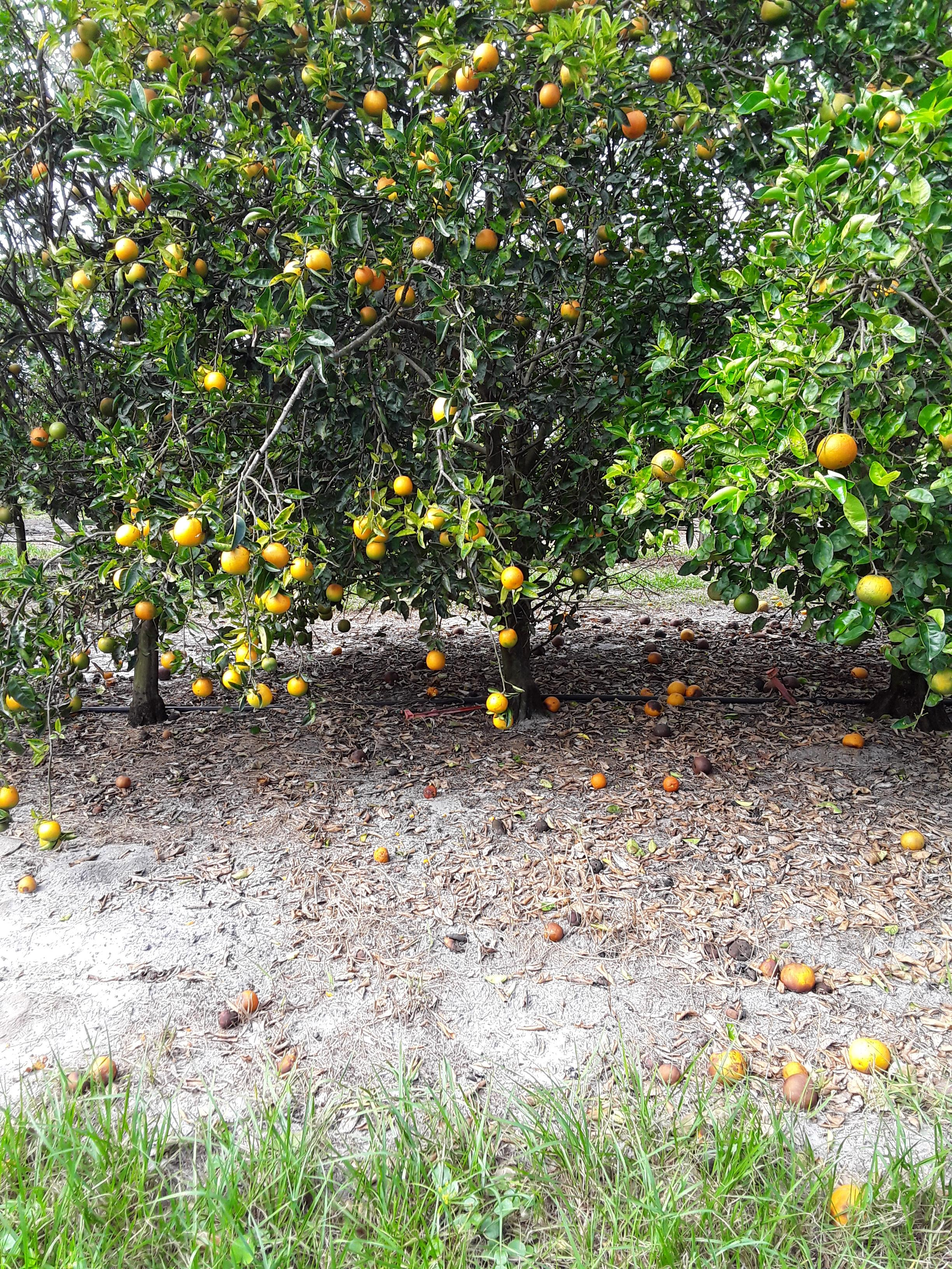fruit_on_ground: (817, 428, 859, 479), (857, 572, 894, 620), (647, 446, 691, 485), (817, 91, 859, 127), (415, 31, 452, 64), (559, 60, 595, 90), (427, 190, 462, 220), (887, 72, 920, 103), (175, 510, 205, 544), (812, 273, 847, 302), (471, 42, 502, 74), (759, 0, 797, 26), (870, 276, 904, 303), (77, 18, 107, 47), (624, 107, 650, 140), (187, 45, 215, 75), (847, 138, 877, 166), (222, 547, 249, 578), (245, 683, 276, 710), (252, 580, 278, 612), (320, 5, 349, 33), (733, 587, 760, 617), (473, 225, 500, 255), (304, 246, 334, 273), (649, 52, 673, 85), (114, 521, 142, 549), (431, 395, 458, 424), (135, 514, 161, 544), (429, 176, 464, 198), (524, 24, 556, 48), (71, 267, 100, 293), (536, 82, 566, 107), (203, 364, 227, 395), (423, 506, 450, 533), (660, 383, 688, 409), (265, 543, 290, 572), (237, 6, 262, 35), (350, 512, 376, 539), (29, 157, 56, 183), (286, 33, 311, 61), (124, 187, 152, 212), (879, 108, 903, 137), (162, 243, 191, 267), (159, 126, 189, 149), (380, 255, 406, 281), (628, 16, 656, 40), (190, 674, 216, 699), (424, 65, 449, 91), (176, 8, 203, 32), (394, 281, 418, 308), (366, 94, 389, 122), (300, 63, 325, 88), (114, 237, 140, 261), (146, 457, 173, 480), (500, 565, 523, 592), (238, 159, 265, 182), (413, 234, 436, 261), (184, 257, 211, 280), (128, 494, 154, 517), (45, 417, 67, 444), (214, 1, 236, 28), (697, 134, 719, 161), (611, 364, 633, 391), (96, 394, 120, 418), (28, 421, 49, 448), (282, 121, 306, 144), (102, 182, 131, 201), (392, 473, 414, 498), (455, 65, 476, 91), (4, 692, 32, 711), (239, 641, 260, 666), (353, 262, 374, 287), (166, 264, 193, 283), (26, 335, 53, 354), (865, 76, 887, 99), (124, 261, 147, 283), (367, 267, 389, 290), (353, 2, 374, 26), (548, 185, 572, 206), (415, 154, 435, 179), (30, 95, 56, 114), (935, 426, 952, 455), (424, 113, 451, 131), (294, 558, 316, 580), (648, 128, 670, 150), (270, 591, 291, 614), (131, 598, 152, 621), (219, 666, 240, 689), (287, 675, 310, 696), (681, 115, 702, 138), (512, 309, 533, 332), (367, 540, 387, 564), (74, 40, 92, 66), (527, 0, 560, 14), (263, 76, 286, 96), (561, 296, 581, 319), (470, 519, 489, 543), (325, 87, 344, 111), (198, 159, 222, 178), (118, 313, 139, 334), (67, 186, 89, 206), (328, 579, 347, 602), (376, 173, 395, 196), (143, 86, 161, 110), (360, 304, 378, 328), (439, 529, 460, 549), (41, 247, 62, 267), (571, 565, 590, 587), (148, 53, 167, 75), (195, 362, 217, 381), (0, 502, 18, 525), (159, 649, 177, 672), (264, 159, 284, 179), (595, 224, 616, 243), (228, 27, 247, 48), (99, 635, 117, 657), (543, 218, 565, 236), (186, 493, 203, 516), (161, 406, 180, 426), (72, 650, 90, 671), (670, 112, 688, 133), (614, 24, 633, 43), (550, 0, 580, 12), (517, 198, 540, 213), (248, 95, 265, 115), (409, 146, 429, 163), (296, 22, 312, 43), (614, 243, 632, 260), (843, 0, 859, 19), (389, 190, 408, 205), (630, 248, 649, 263), (337, 618, 354, 633), (595, 250, 609, 267), (8, 362, 25, 376), (592, 119, 610, 132), (255, 226, 273, 239), (570, 0, 599, 7)
fruit_on_tree: (846, 1035, 900, 1077), (828, 1178, 864, 1226), (777, 958, 820, 998), (707, 1044, 747, 1087), (781, 1069, 818, 1113), (88, 1055, 119, 1090), (654, 1059, 683, 1093), (439, 932, 474, 958), (897, 830, 924, 861), (544, 920, 569, 950), (728, 936, 753, 966), (560, 906, 591, 930), (237, 991, 262, 1019), (38, 817, 61, 846), (64, 1069, 89, 1095), (930, 671, 952, 699), (666, 687, 688, 713), (218, 1003, 240, 1029), (842, 731, 868, 752), (487, 690, 508, 715), (662, 775, 683, 800), (590, 771, 611, 795), (690, 754, 711, 777), (28, 1051, 49, 1074), (494, 631, 515, 653), (425, 650, 446, 671), (16, 875, 36, 897), (2, 790, 21, 813), (373, 844, 391, 867), (489, 818, 511, 836), (256, 770, 275, 790), (780, 674, 802, 691), (587, 856, 606, 875), (543, 693, 561, 713), (653, 722, 674, 739), (641, 701, 658, 721), (116, 771, 133, 791), (532, 817, 551, 834), (422, 783, 438, 803), (350, 749, 368, 766), (68, 695, 83, 715), (257, 778, 273, 796), (648, 650, 666, 665), (853, 664, 868, 682), (158, 664, 173, 682), (385, 668, 400, 686), (757, 598, 772, 614), (681, 627, 697, 642), (640, 687, 660, 699), (695, 637, 712, 651), (425, 685, 439, 701), (763, 681, 779, 694), (332, 645, 346, 659), (651, 629, 668, 640), (137, 732, 154, 743), (101, 669, 117, 680), (385, 766, 401, 777), (668, 617, 685, 627), (727, 620, 740, 633), (104, 677, 118, 689), (161, 727, 172, 741), (597, 615, 614, 624), (643, 642, 656, 652), (90, 675, 103, 685), (780, 625, 795, 633), (789, 630, 801, 640), (641, 616, 652, 626)
